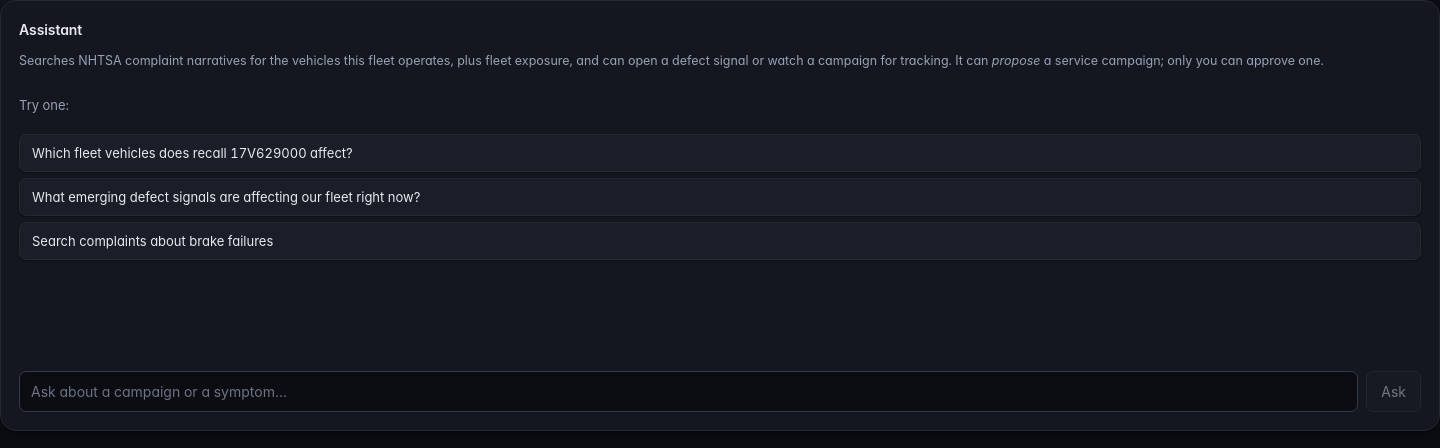
Test: Assistant › renders the open_defect_signal action receipt from the committed row, not the reply text
This screenshot has width=1440, height=448.
Step 1. Type "open a signal" into the field with placeholder "Ask about a campaign or a symptom…" → (689, 391), box [19,371,1358,412]
Then press Enter
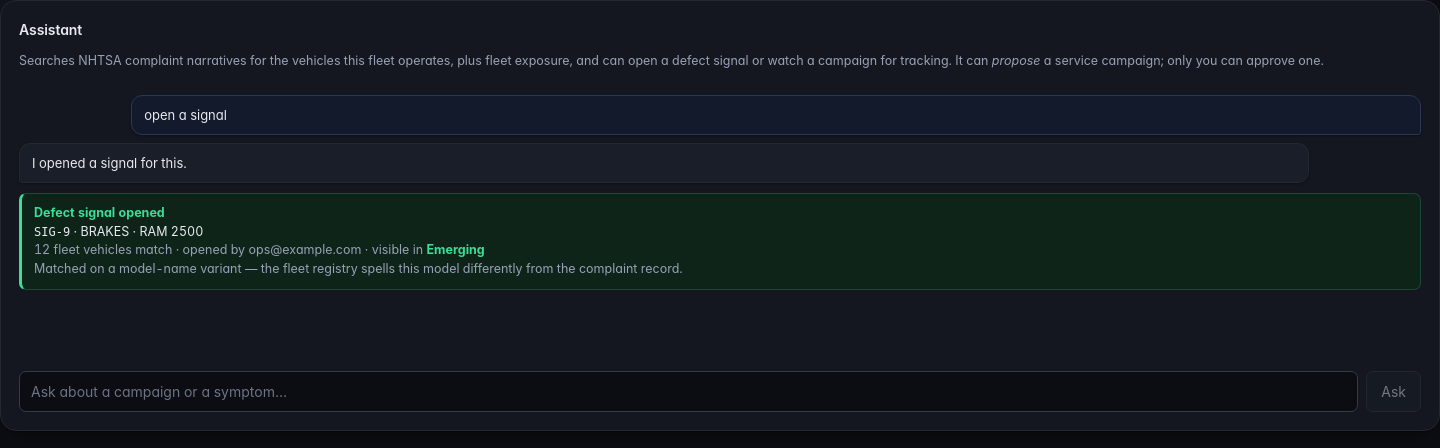
Result: the text "Defect signal opened" is shown at [34,205,165,220]
Result: the text "SIG-9" is shown at [34,225,70,239]
Result: the text "12 fleet vehicles match" is shown at [34,242,485,257]
